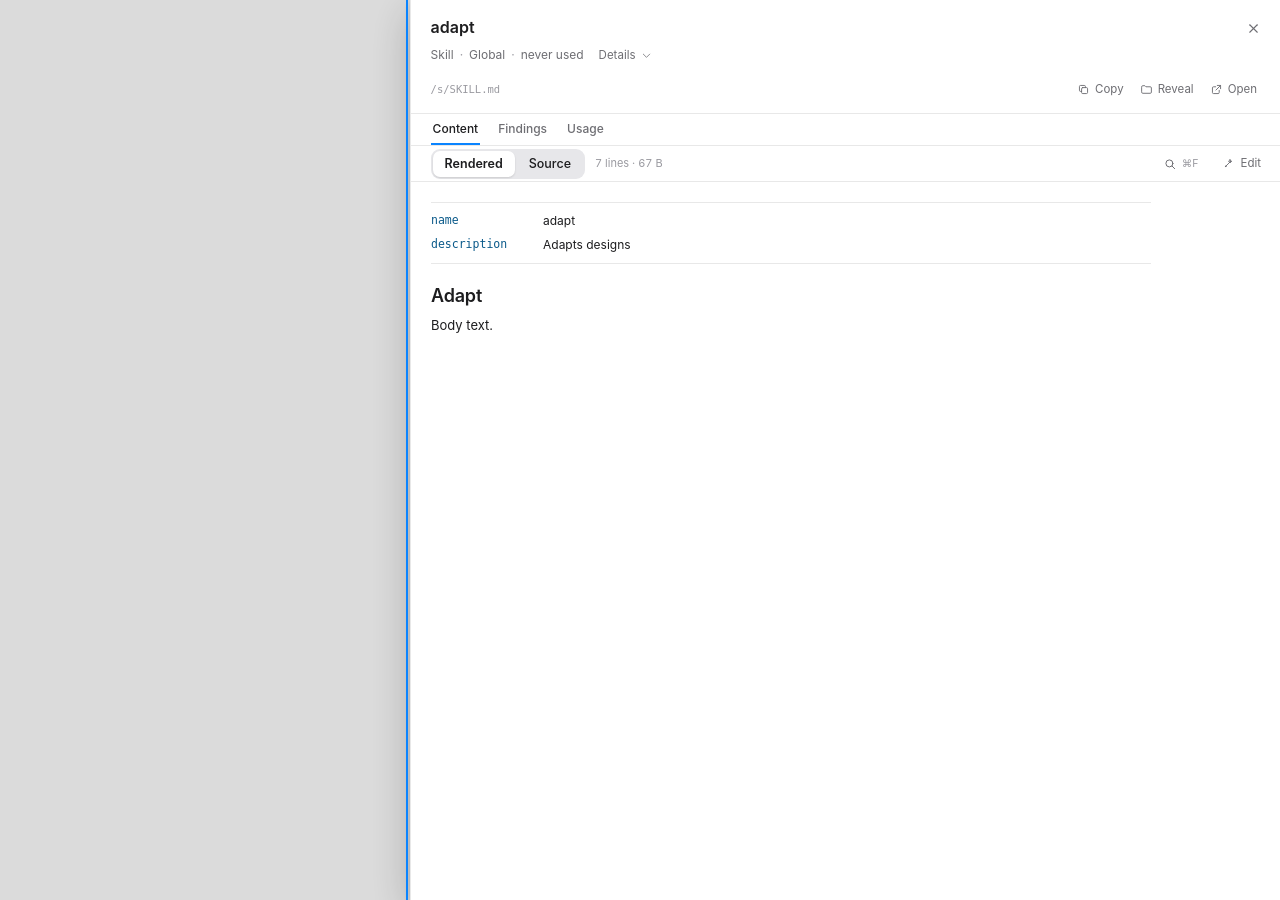
Scenario: ItemViewer › editing › does not claim a save landed when it failed
Click the button "Edit" at (1242, 164), box [1216,152,1268,176]
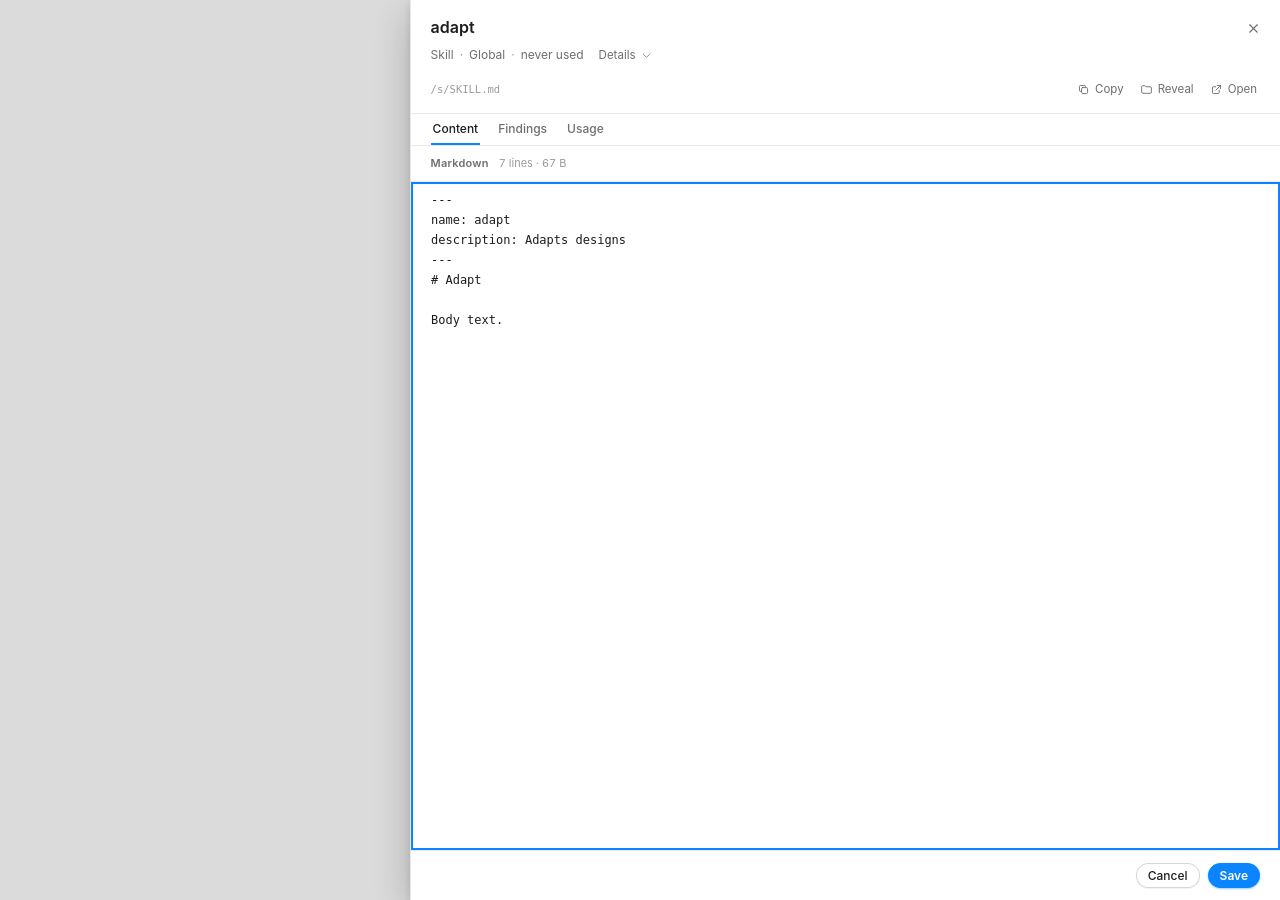
Replace the text in the text box named "item source" with "# Edited" at (845, 516), box [411,182,1279,850]
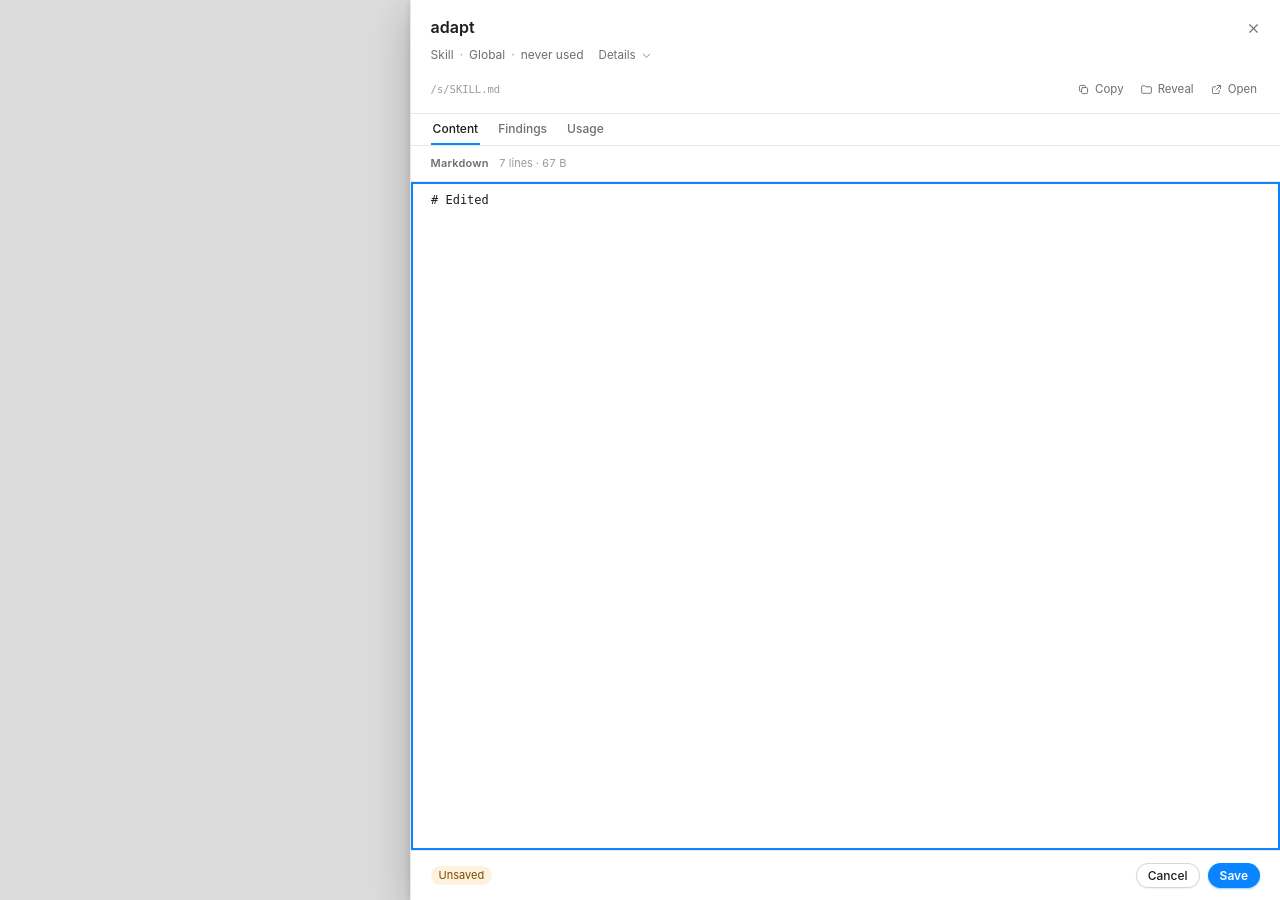
Click the button "Save" at (1234, 876), box [1208,863,1260,888]
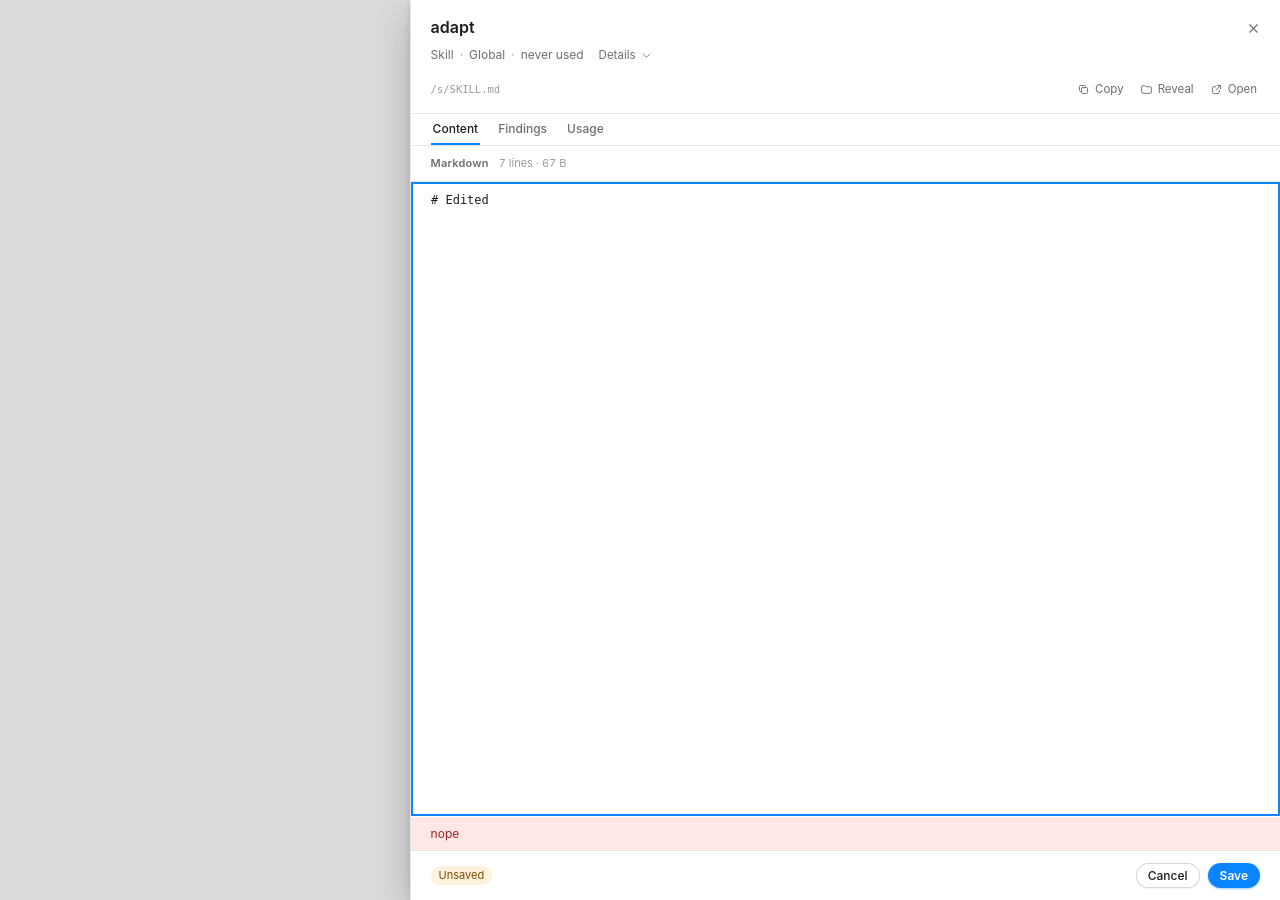
Expected: the message "nope" is shown, [411,817,1279,850]
